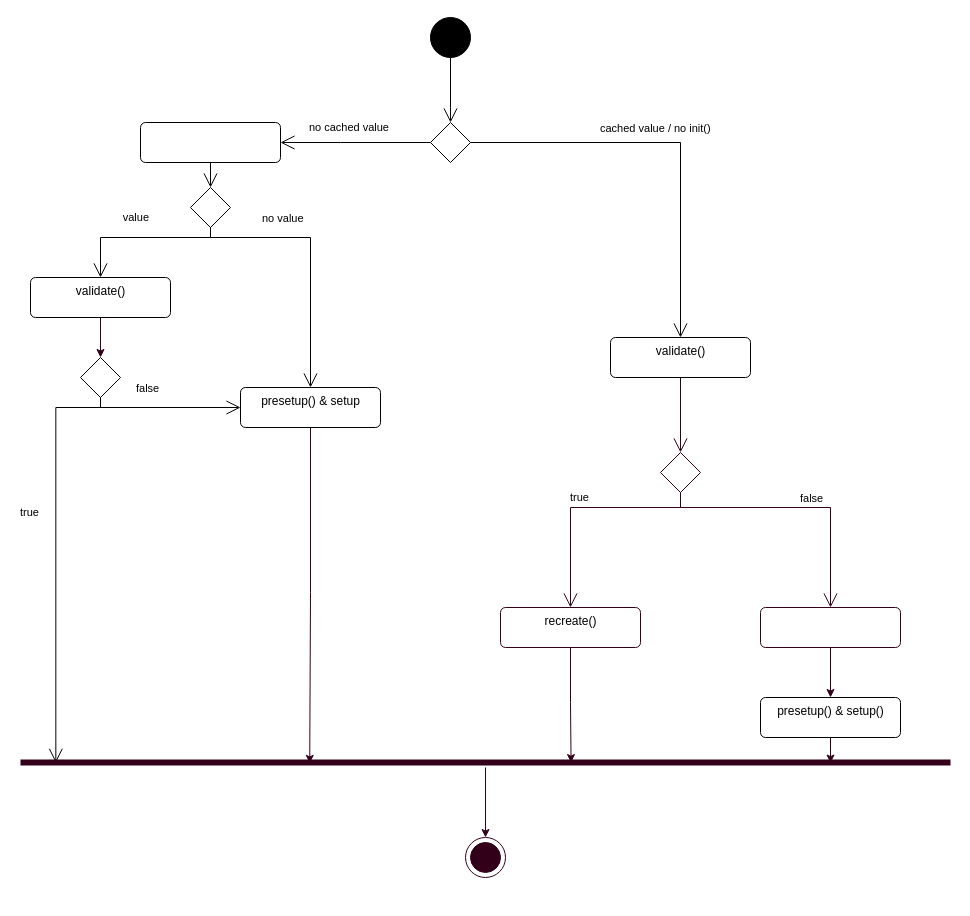
The diagram is 970 pixels wide and 916 high, and some of its shapes have lost their labels. The centre of each missing label's shape, as x and y in pixels:
"init()" goes at pixel 210 142.
"onInvalidated()" goes at pixel 830 627.
"value saved in data session" goes at pixel 485 857.
